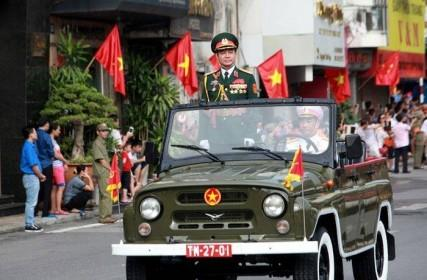plate: (183, 243, 234, 258)
